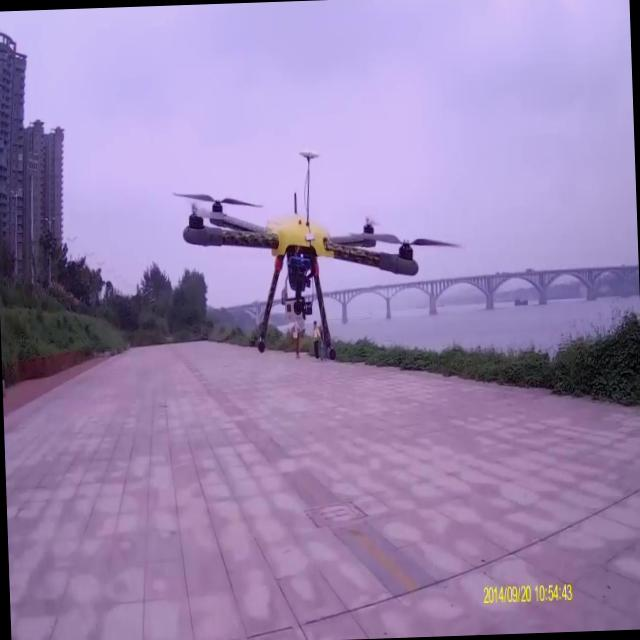drone: (170, 141, 470, 368)
